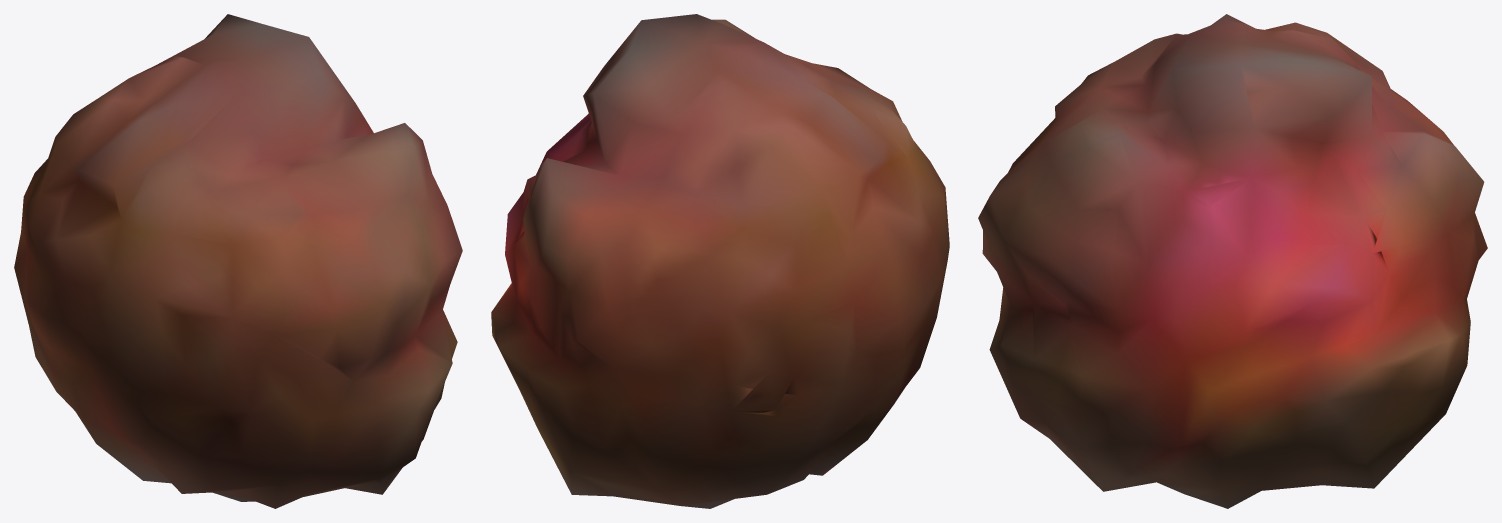
File: keeper_heartstone.glb
The picture shows the model from 3 angles, left to right: view 1: azimuth 30°, elevation 25°; view 2: azimuth 150°, elevation 25°; view 3: azimuth 270°, elevation 25°; orthographic projection. The views are drawn at different scales.
Visible parts, largest first — view 1: model; view 2: model; view 3: model.
Boxes of the visible parts, box(x1,y1,x2,y2) form: model: box(14, 14, 462, 508); model: box(491, 14, 949, 508); model: box(978, 14, 1487, 508).
Size of the model in its own units: 0.351 by 0.3837 by 0.4025.
Materials: 1 (1 with a texture image).
